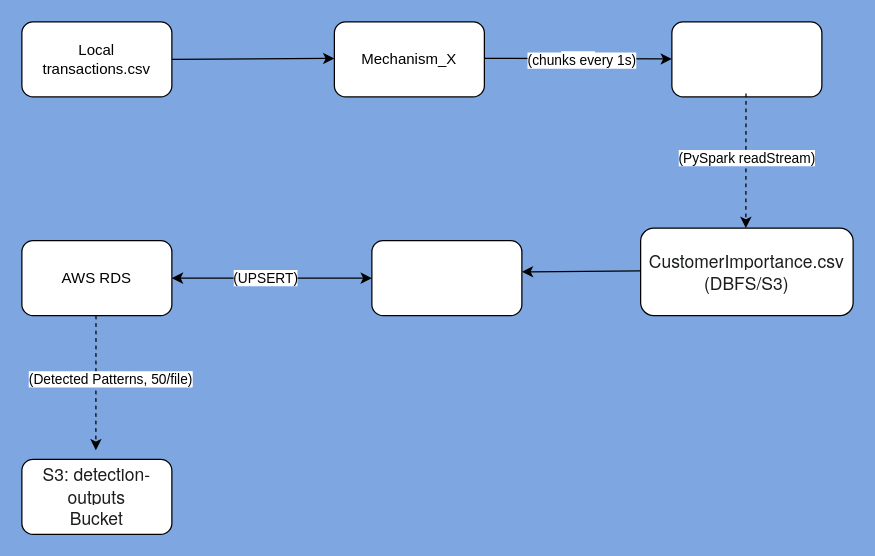
Some shapes in this 875 by 556 pixel diagram are drawn without their labels. The centre of each missing label's shape, as x and y in pixels:
"Mechanism_Y" belongs at (x=446, y=277).
"S3:transaction-chunks Bucket" belongs at (x=746, y=59).
